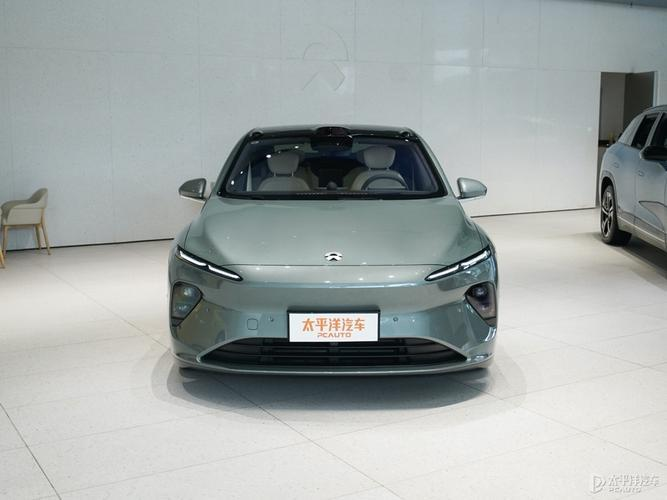NIO: (324, 251, 344, 262)
